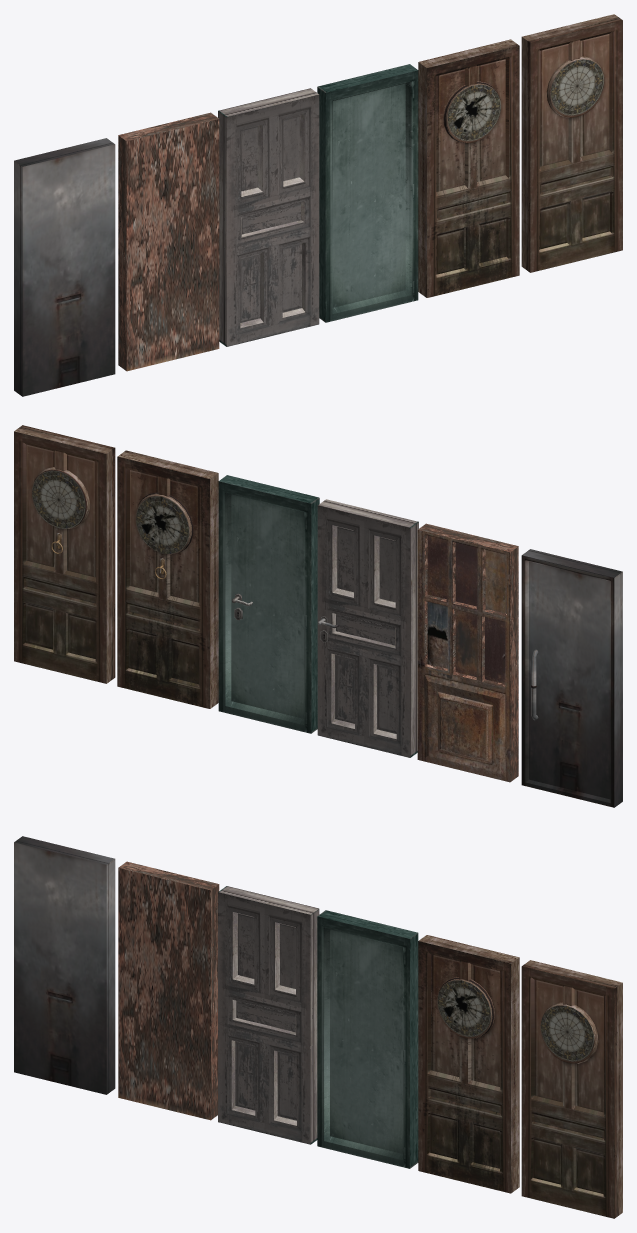
File: doors.fbx
3 views of the same model, one above another, from view 1: azimuth 30°, elevation 25°; view 2: azimuth 150°, elevation 25°; view 3: azimuth 330°, elevation 25° (orthographic).
Visible parts, largest first — view 1: door1, door3.003, door2, door3.002, door3.001, door3; view 2: door1, door2, door3.002, door3.001, door3.003, door3; view 3: door1, door3.003, door3, door2, door3.001, door3.002.
Boxes of the visible parts, x1=… form: door1: x1=521, y1=14, x2=622, y2=272; door3.003: x1=14, y1=138, x2=115, y2=396; door2: x1=418, y1=39, x2=519, y2=297; door3.002: x1=118, y1=112, x2=219, y2=371; door3.001: x1=218, y1=88, x2=319, y2=346; door3: x1=317, y1=64, x2=418, y2=322; door1: x1=14, y1=425, x2=115, y2=683; door2: x1=117, y1=450, x2=218, y2=708; door3.002: x1=417, y1=523, x2=518, y2=782; door3.001: x1=317, y1=499, x2=418, y2=757; door3.003: x1=521, y1=549, x2=622, y2=807; door3: x1=218, y1=475, x2=319, y2=733; door1: x1=521, y1=960, x2=622, y2=1218; door3.003: x1=14, y1=836, x2=115, y2=1094; door3: x1=317, y1=910, x2=418, y2=1168; door2: x1=418, y1=935, x2=519, y2=1193; door3.001: x1=218, y1=886, x2=319, y2=1144; door3.002: x1=118, y1=861, x2=219, y2=1120.
Size of the model in its own units: 671 by 28.71 by 246.
